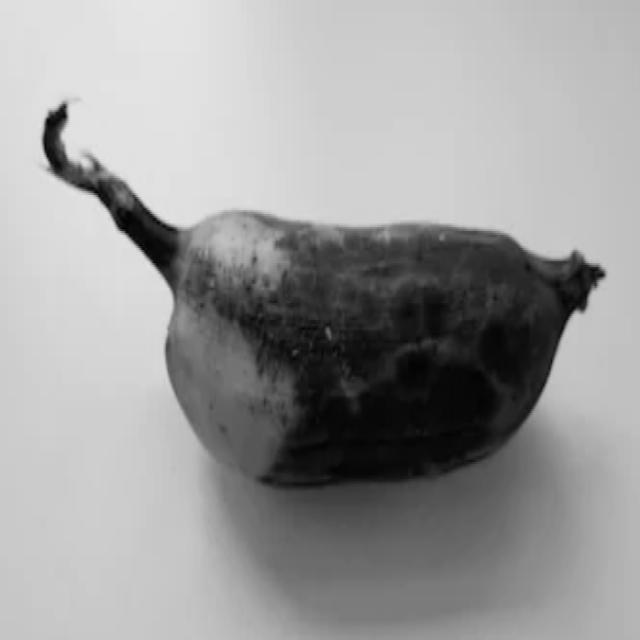Rotten: (24, 80, 615, 516)
